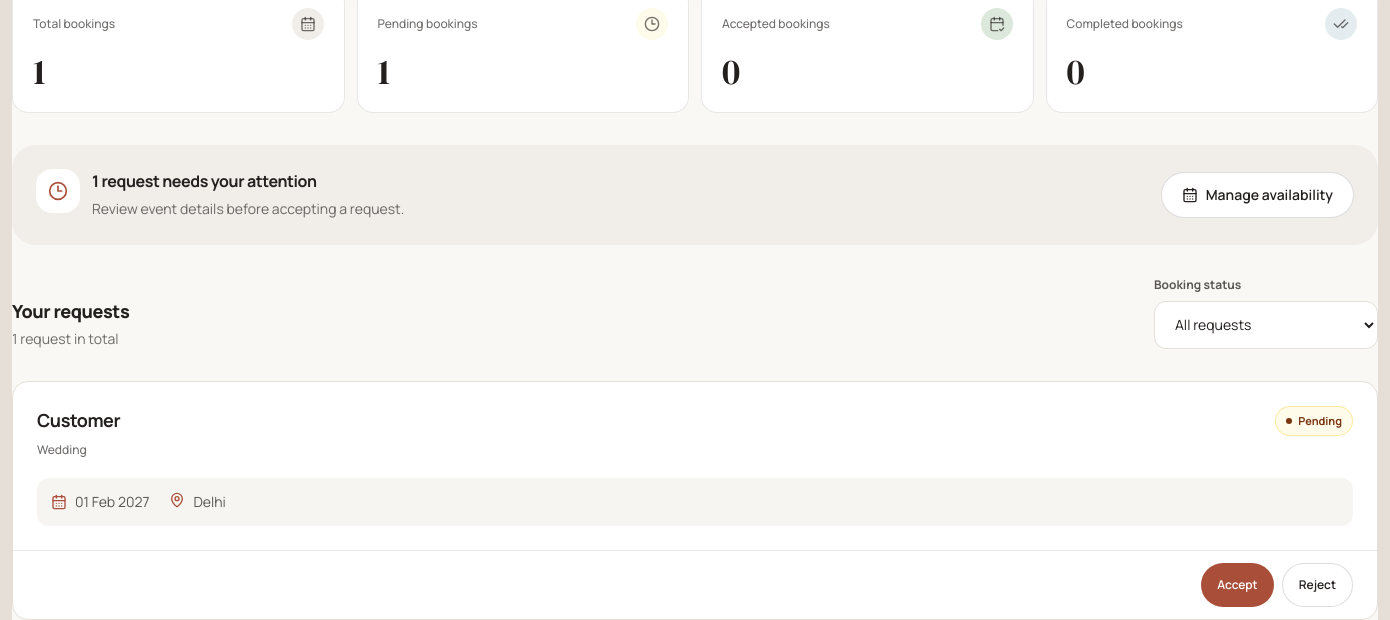
Test: vendor booking management › sends the Reject transition for a pending request
The width and height of the screenshot is (1390, 620).
(page scrolled)
Click the button "Reject" at (1317, 585), box [1282,563,1353,607]
(page scrolled)
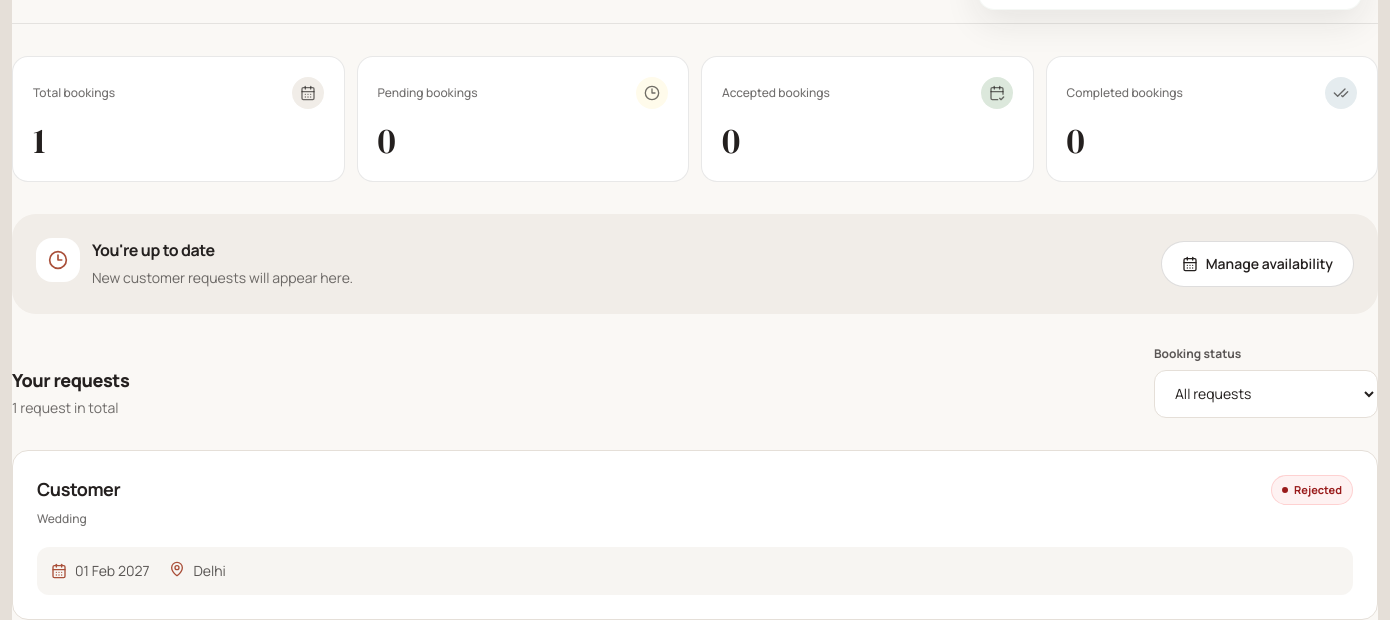
Expected: the text "rejected" is shown, [1271,474,1353,505]
